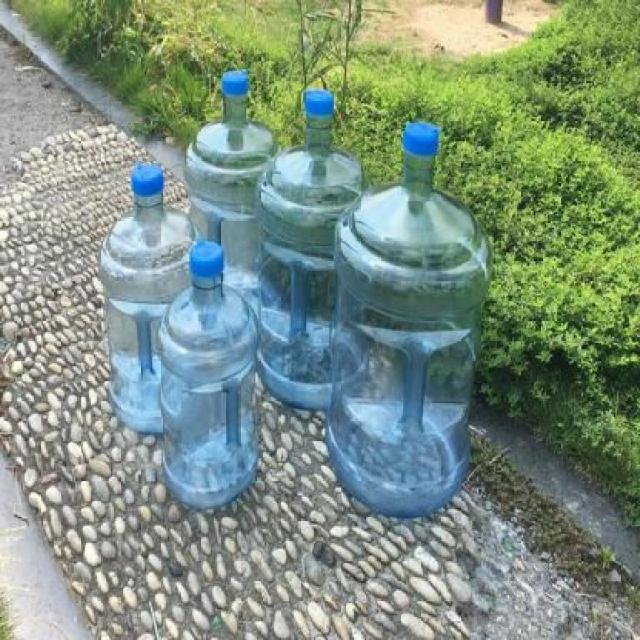coolerbottle: (326, 116, 495, 520), (155, 239, 264, 516)
